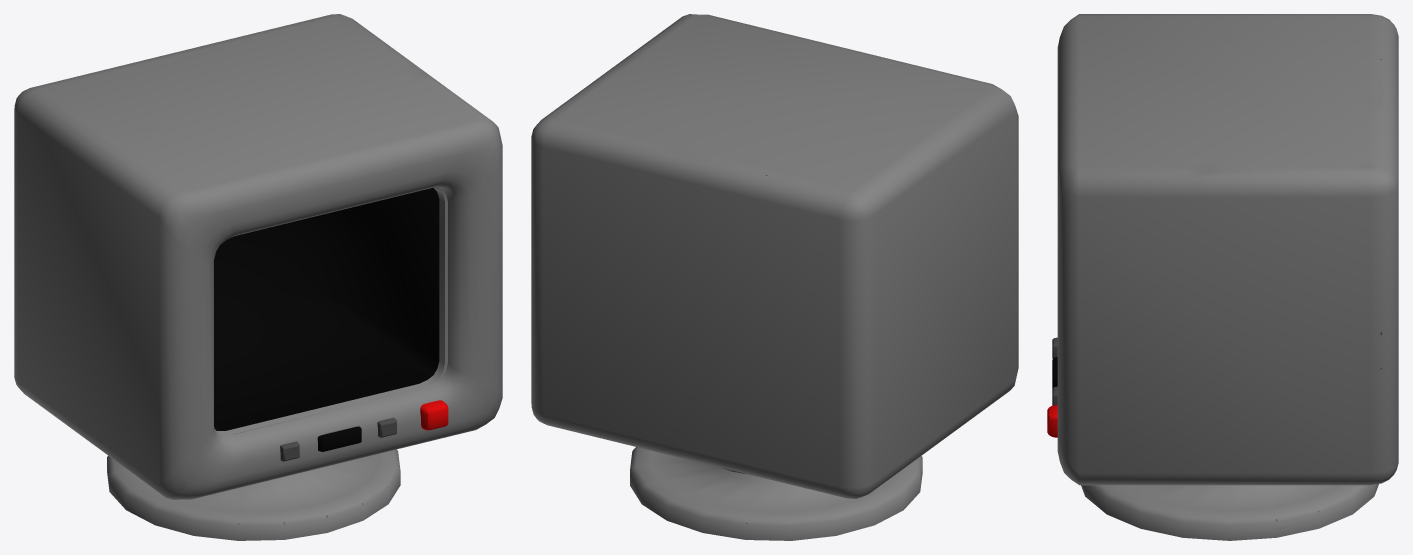
File: Monitor.fbx
The picture shows the model from 3 angles, left to right: view 1: azimuth 30°, elevation 25°; view 2: azimuth 150°, elevation 25°; view 3: azimuth 270°, elevation 25°; orthographic projection. The views are drawn at different scales.
Parts seen in each view (by area): view 1: PhatCRT, Base; view 2: PhatCRT, Base; view 3: PhatCRT, Base.
Part boxes in pixels (bbox=[...]): PhatCRT: bbox=[14, 14, 502, 499]; Base: bbox=[107, 449, 400, 540]; PhatCRT: bbox=[531, 14, 1018, 498]; Base: bbox=[630, 447, 922, 540]; PhatCRT: bbox=[1047, 14, 1398, 485]; Base: bbox=[1081, 484, 1378, 540].
Size of the model in its own units: 187 by 197 by 162.
